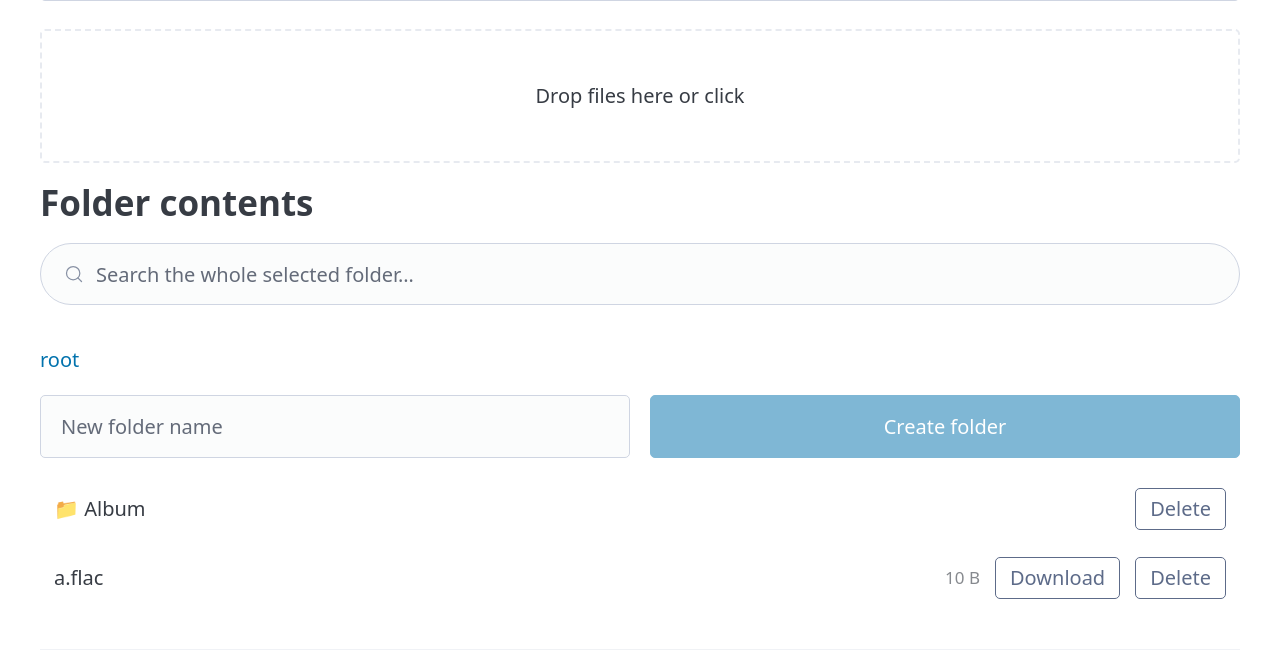
Test case: App › shows a toast when deleting fails
(page scrolled)
Expected: the text "a.flac" is shown, [54,564,104,591]
Click the button "Delete" in the row of "a.flac": (1181,578) [1135,557,1226,599]
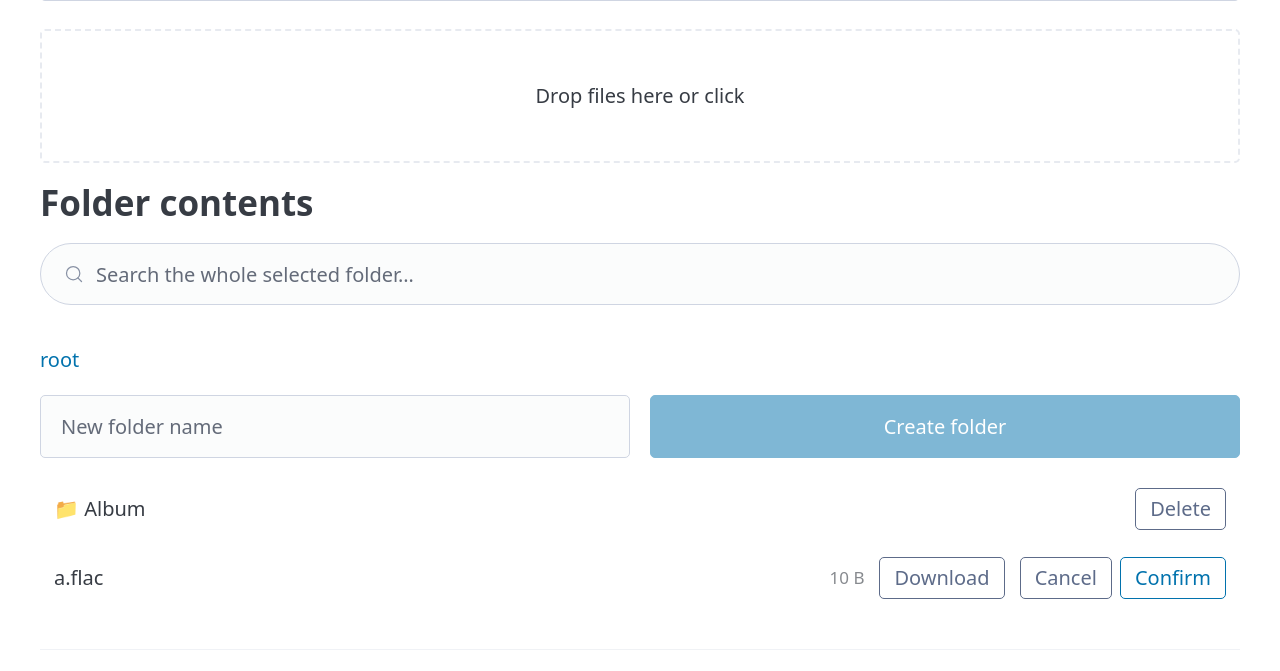
Click the button "Confirm": (1173,578) [1120,557,1226,599]
(page scrolled)
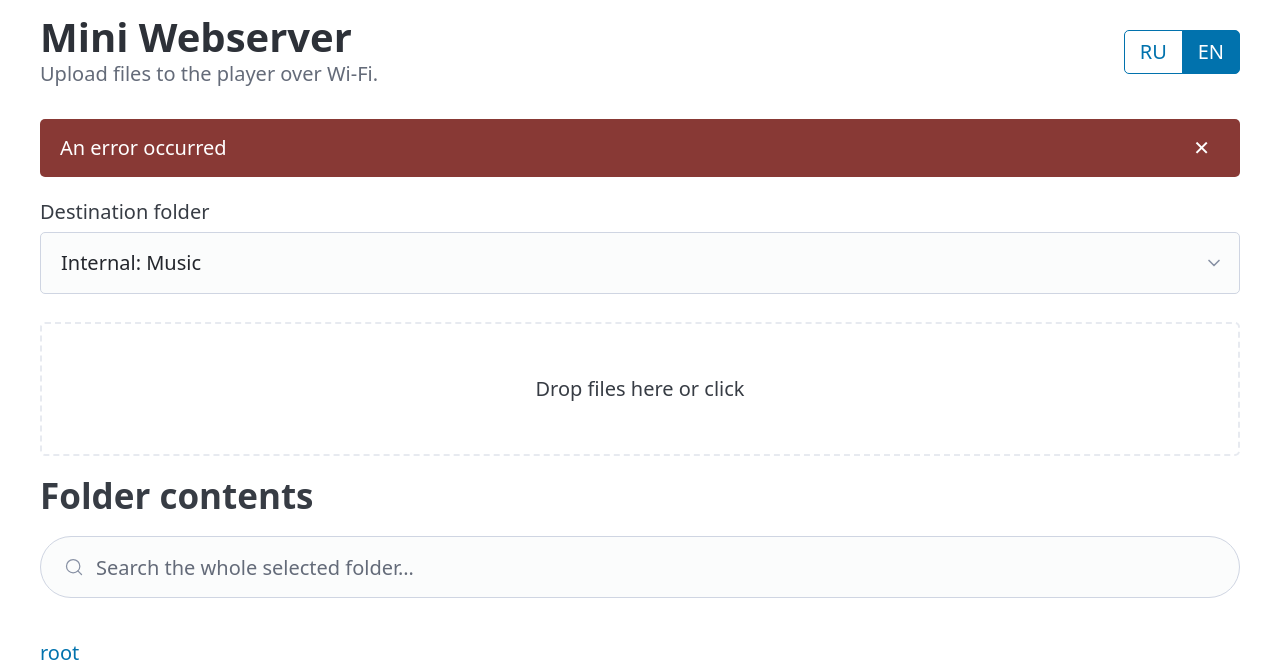
Now the message shows "An error occurred", box [60,134,227,161]
